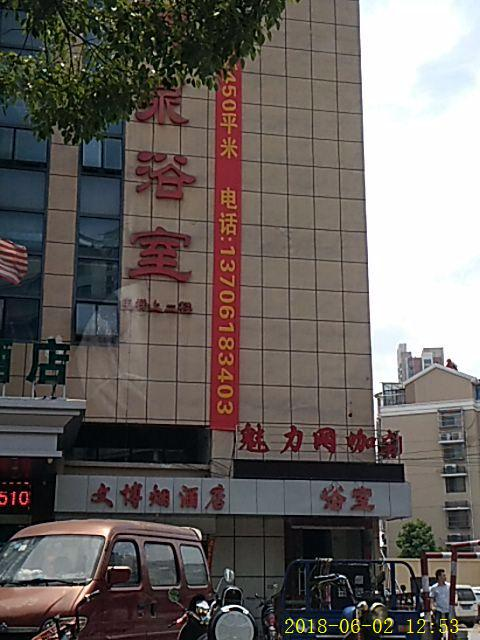multi_signs: (131, 66, 194, 321), (312, 483, 384, 517)
